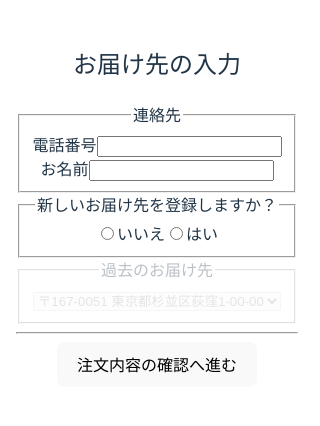
AccountForm コンポーネントのテスト › 「はい」を選択後、「新しいお届け先」フォームが表示される
The image size is (320, 426).
Click the radio button labelled "はい" at (176, 234), box [170,227,183,240]
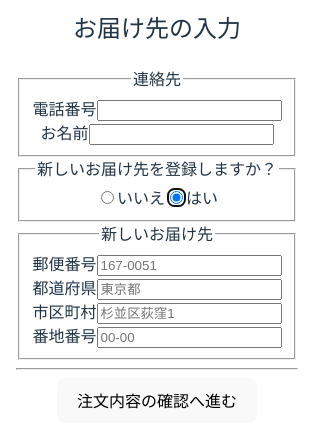
Result: the element "新しいお届け先" is shown at [18,222,296,360]
